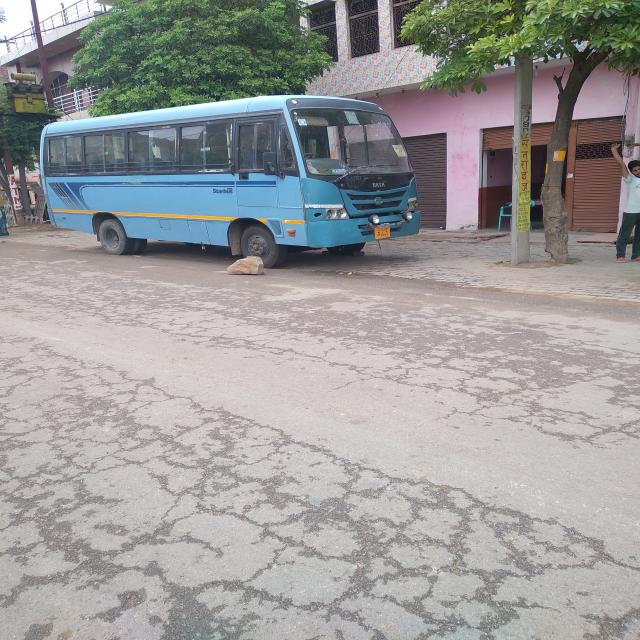Bus: (40, 95, 420, 268)
